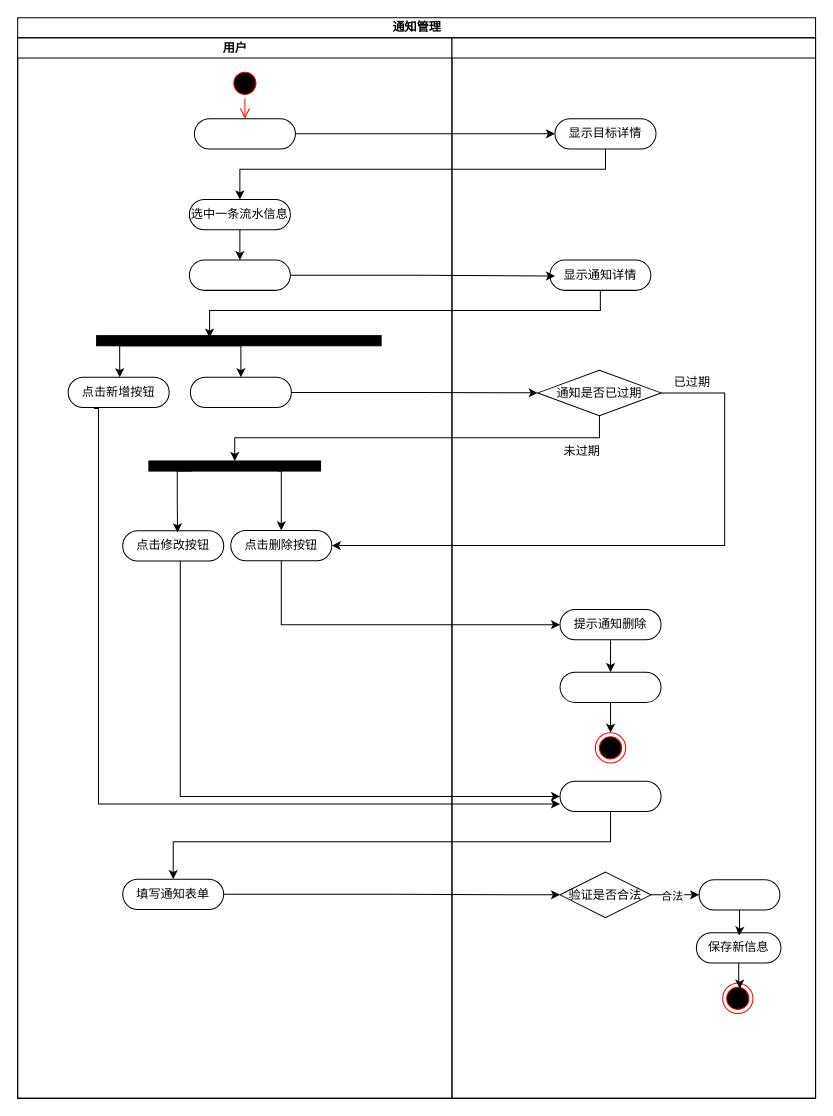
Some shapes in this 833 by 1116 pixel diagram are drawn without their labels. Each missing label, with the box of its shape:
删除通知: (559, 671, 661, 702)
提示通知变动: (698, 879, 780, 910)
显示通知表单: (559, 780, 661, 812)
点击通知管理按钮: (188, 259, 290, 290)
目标与通知子系统: (451, 37, 816, 1098)
进入目标管理页面: (193, 118, 295, 149)
选中一条通知信息: (189, 376, 291, 408)
